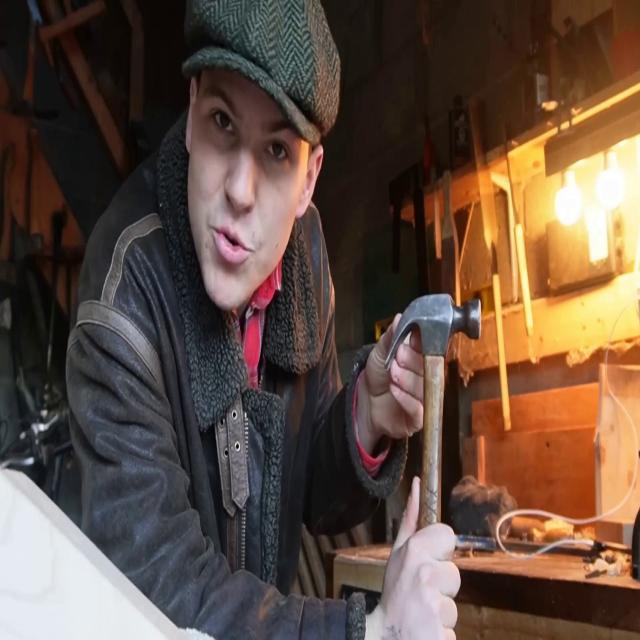hammer: (386, 291, 481, 530)
